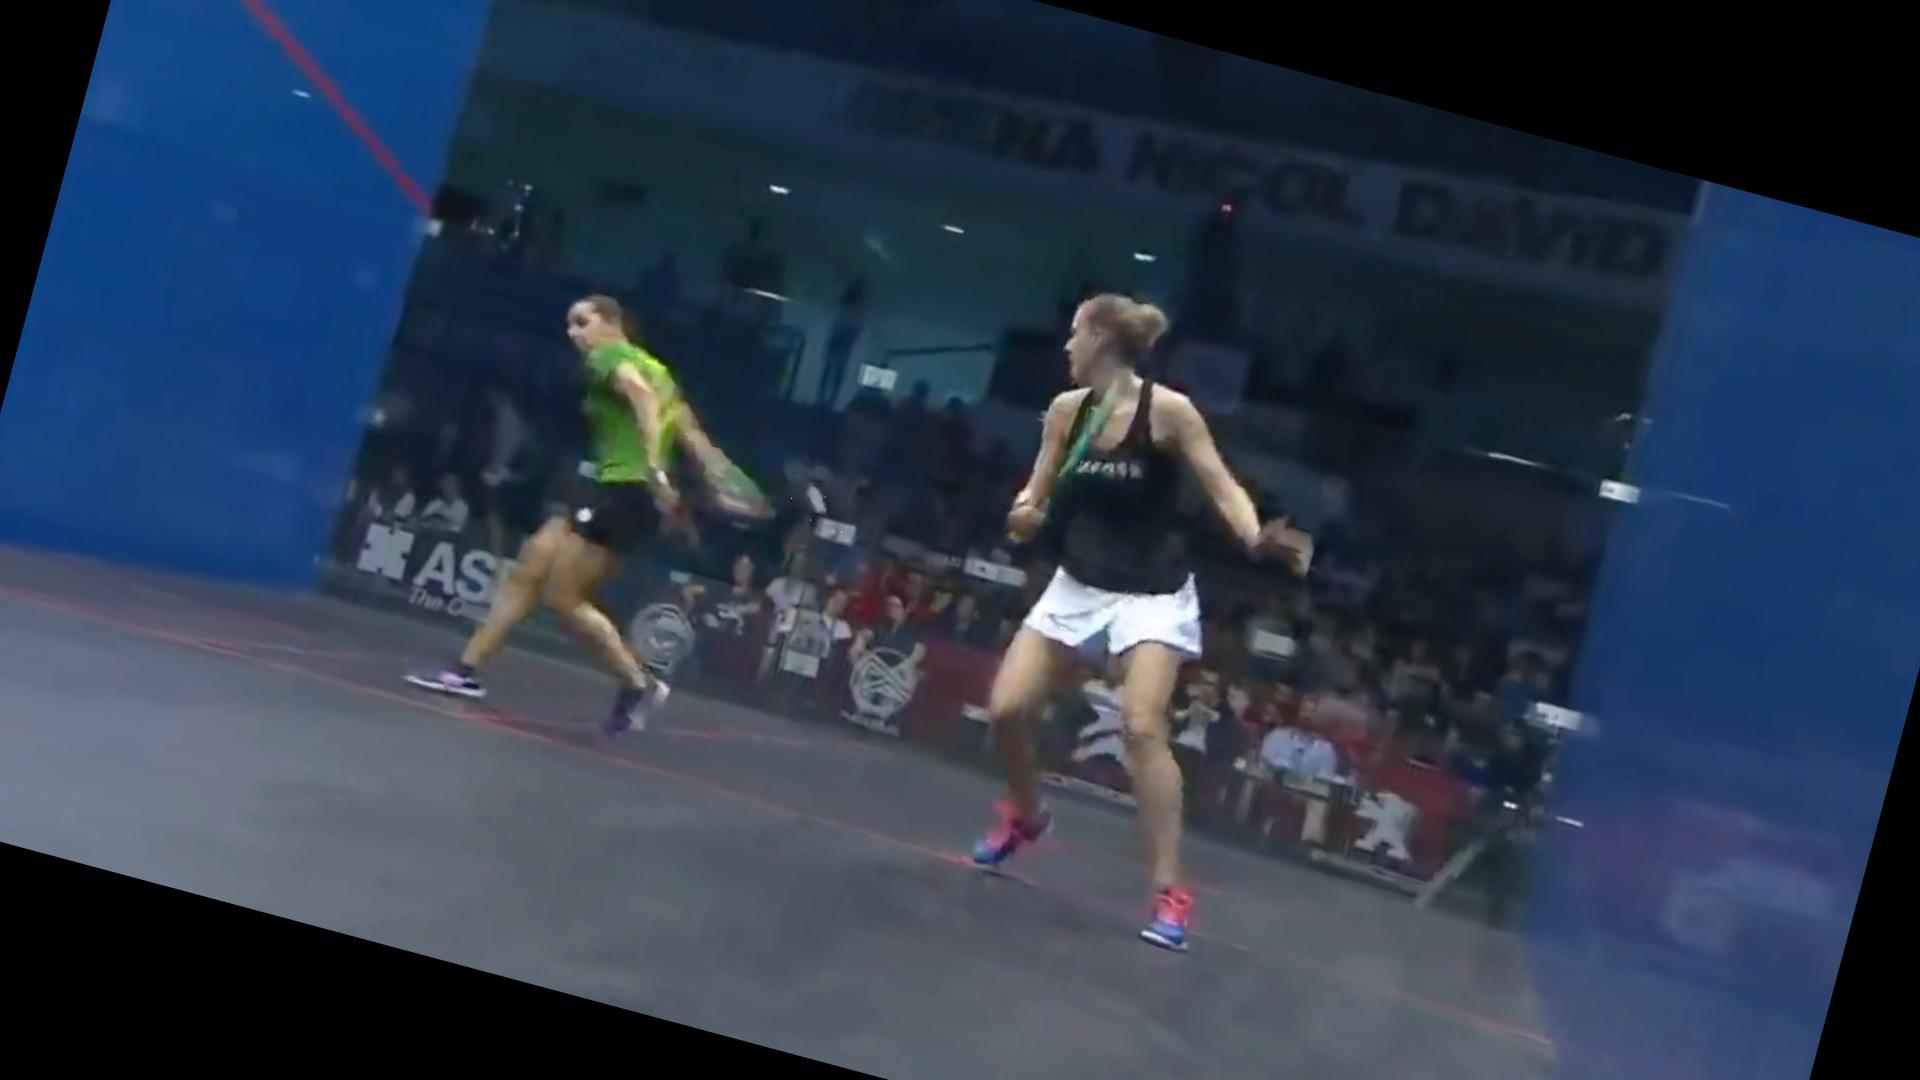Squash-Ball: (782, 471, 855, 535)
